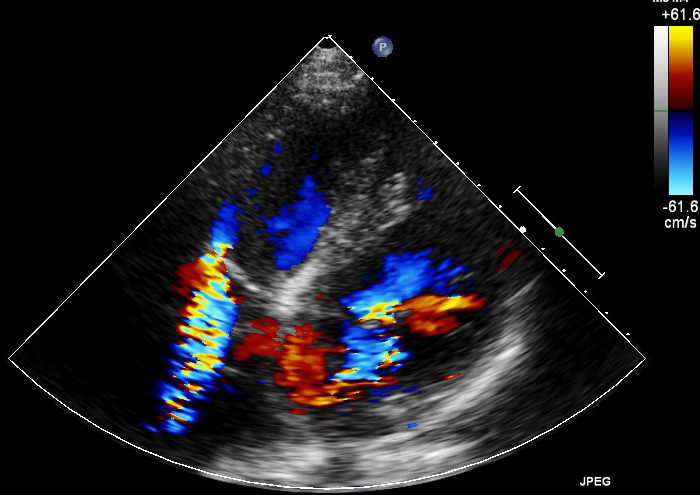MR: (335, 287, 409, 361)
